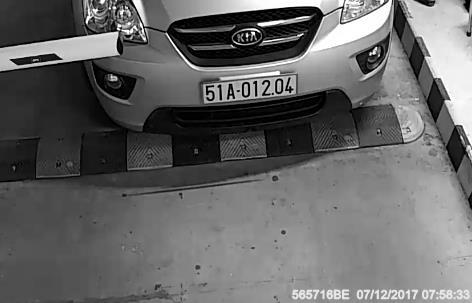License-plate: (193, 65, 304, 112)
